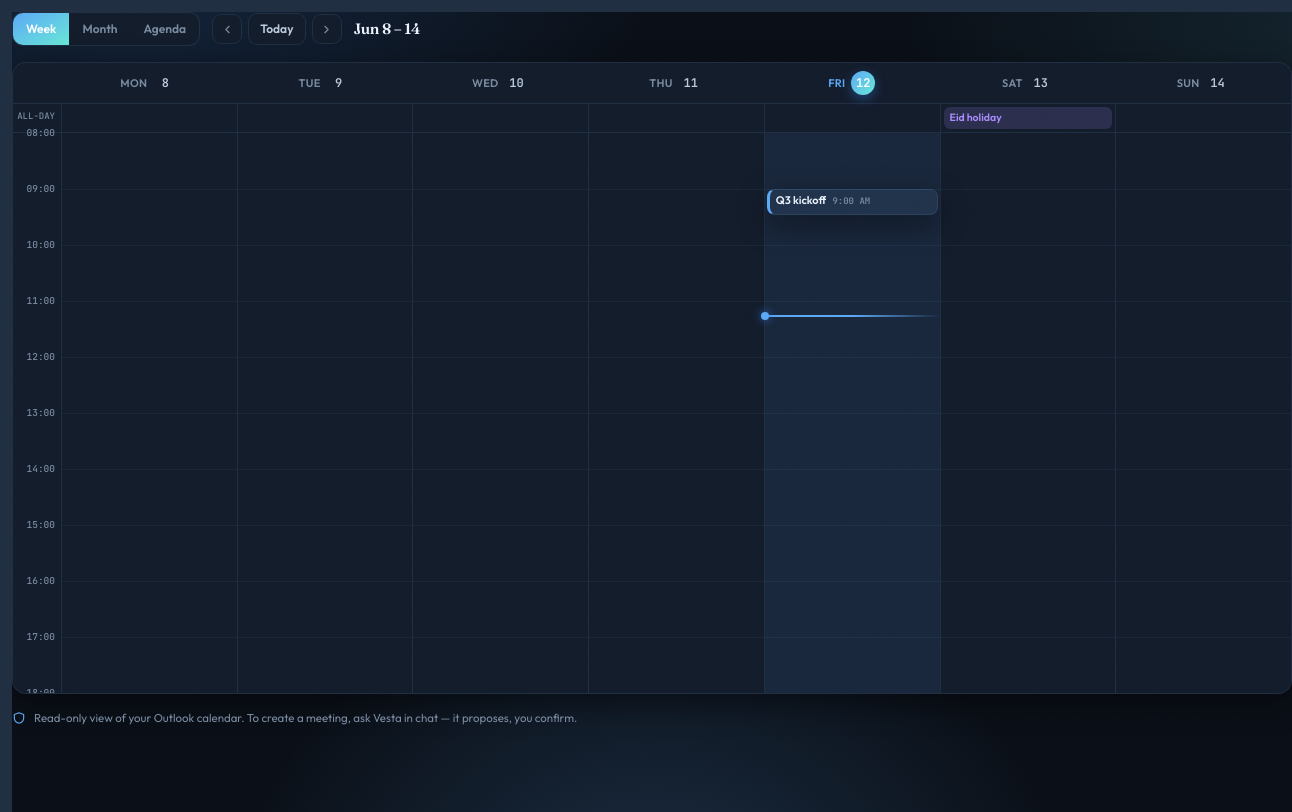
Test: MeetingsView › month view shows the grid with event pills; a day click jumps to its week
Click the button "month". click: (100, 29)
box: [69,13,130,45]
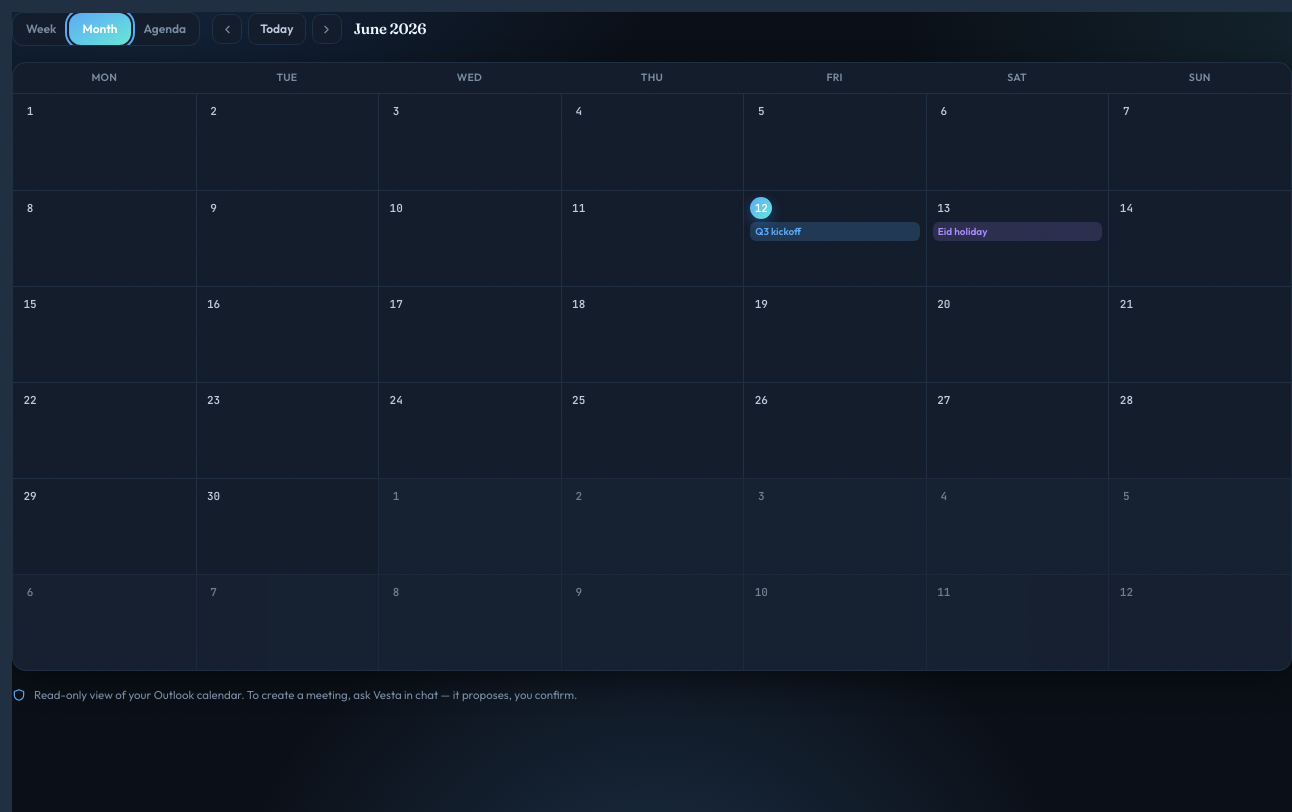
Expected: the button "Q3 kickoff" is shown, [750,222,920,241]
Expected: the text "June 2026" is shown, [354,18,426,40]
Jumping to a specific day switches to that week (within the window — no fetch).
Click the button named "Open 2026-06-12 — 1 meeting". click: (761, 208)
box: [750,197,772,219]
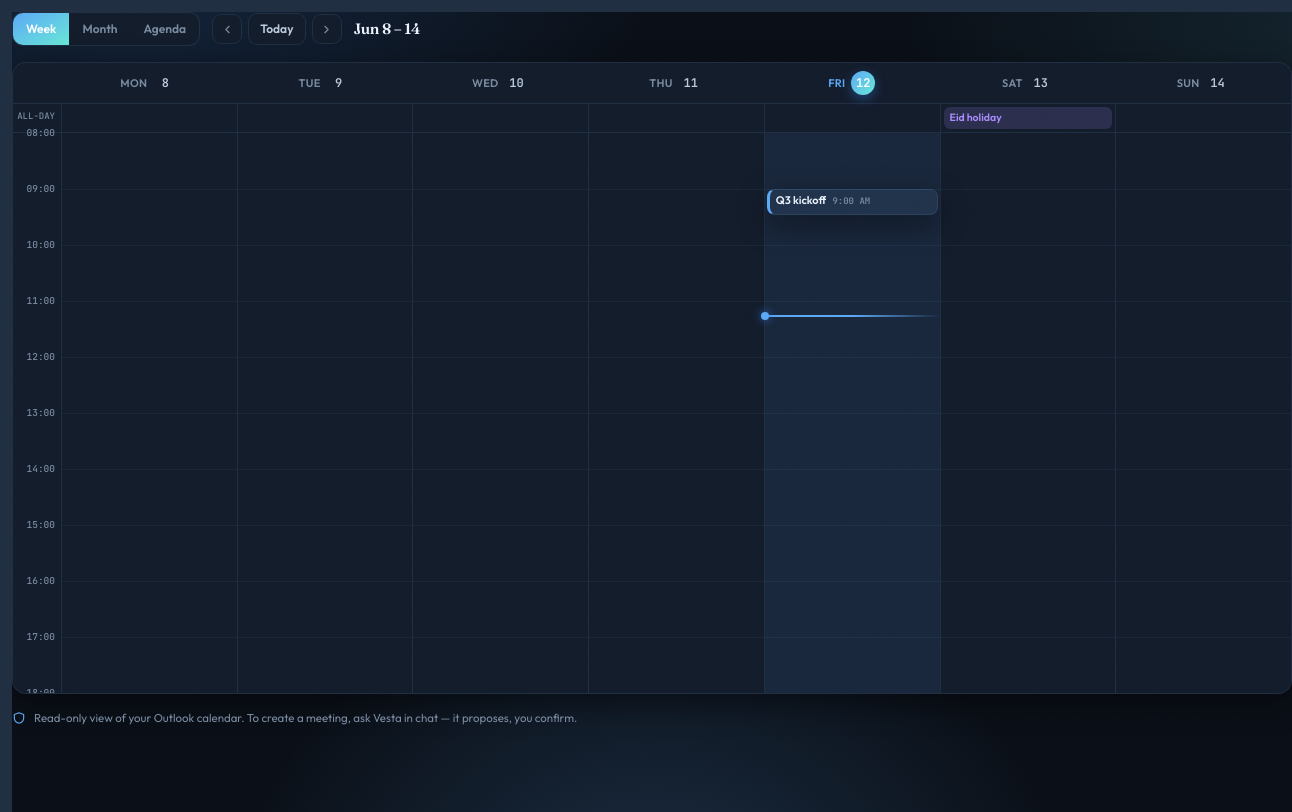
Expected: the text "Jun 8 – 14" is shown, [354,18,420,40]
